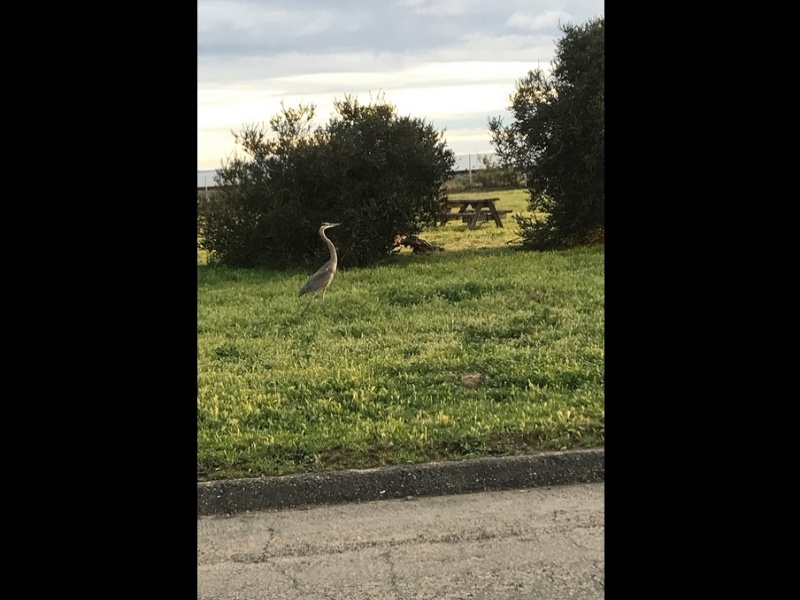heron: (298, 220, 341, 303)
